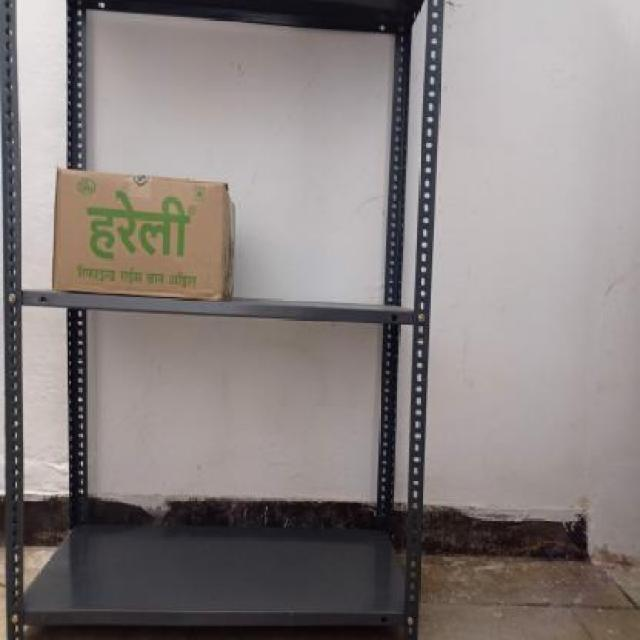box: (52, 166, 236, 300)
